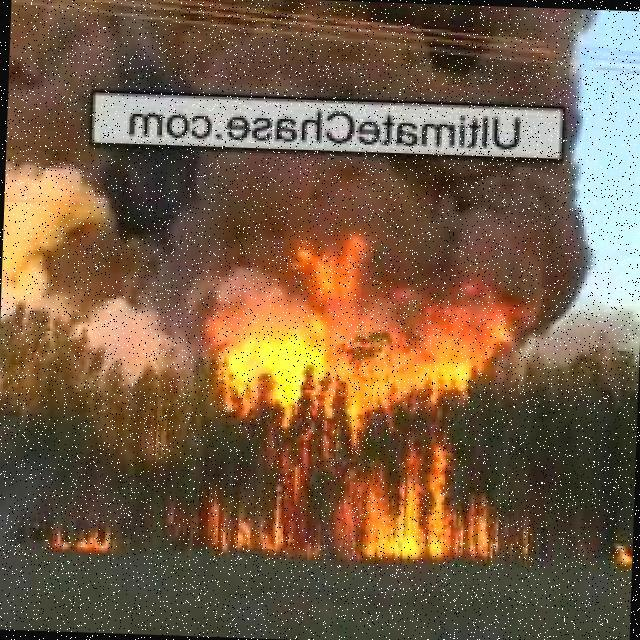Fire: (217, 234, 503, 556), (48, 526, 109, 557), (607, 539, 633, 567)
